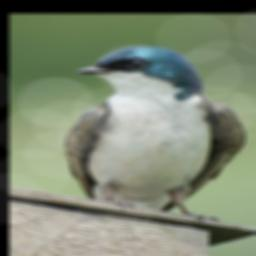Swallow: (62, 44, 246, 225)
